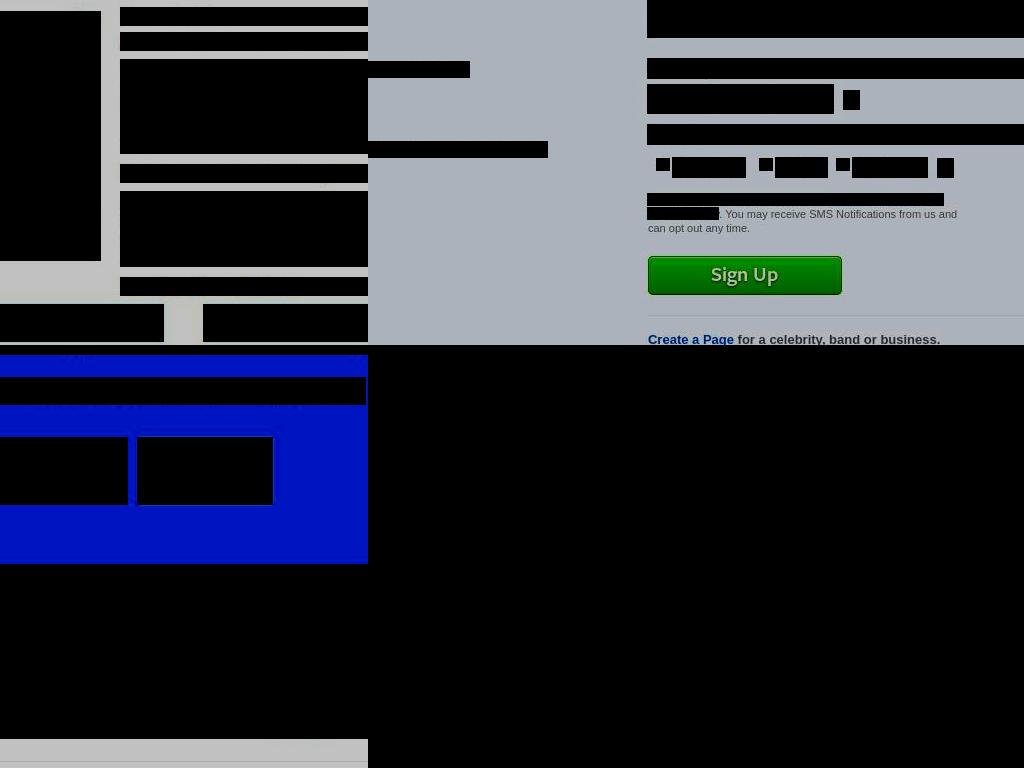button: (565, 469, 853, 534), (137, 437, 273, 505), (647, 255, 842, 295), (203, 304, 368, 342), (0, 304, 164, 342), (120, 32, 368, 51), (120, 164, 368, 183), (120, 277, 368, 296), (843, 90, 860, 110), (937, 158, 954, 178)
field: (647, 0, 1024, 38), (0, 437, 128, 505), (647, 84, 717, 114), (772, 84, 834, 114), (716, 84, 773, 114), (656, 158, 670, 171), (759, 158, 773, 171), (836, 158, 850, 171)
heading: (0, 377, 366, 405), (120, 7, 368, 26), (120, 32, 368, 51), (120, 164, 368, 183), (120, 277, 368, 296), (265, 643, 363, 666), (265, 714, 363, 737), (133, 643, 212, 666), (133, 714, 204, 737)
iframe: (0, 11, 101, 261)
image: (368, 364, 1024, 768), (0, 564, 368, 739), (490, 349, 707, 398), (640, 412, 857, 461), (602, 532, 819, 581), (815, 464, 1024, 513), (850, 412, 1024, 461), (757, 626, 790, 659), (874, 658, 907, 691), (884, 456, 917, 489), (922, 483, 955, 516), (625, 583, 658, 616), (449, 464, 482, 497), (815, 673, 848, 706), (516, 416, 549, 449), (941, 613, 974, 646), (860, 403, 893, 436), (843, 90, 860, 107), (937, 158, 954, 175)
label: (852, 157, 928, 178), (672, 157, 746, 178), (265, 581, 316, 603), (775, 157, 828, 178), (133, 581, 166, 603)
link: (647, 331, 734, 345), (647, 207, 719, 220), (867, 193, 924, 206), (831, 193, 862, 206)
text: (368, 353, 1024, 406), (120, 59, 368, 154), (120, 191, 368, 267), (647, 207, 957, 234), (647, 58, 1024, 79), (647, 124, 1024, 145), (597, 489, 821, 513), (368, 141, 548, 158), (615, 553, 762, 573), (733, 331, 940, 345), (647, 193, 831, 206), (368, 61, 470, 78), (162, 462, 248, 480), (760, 553, 803, 573), (922, 193, 944, 206), (861, 193, 868, 206)
